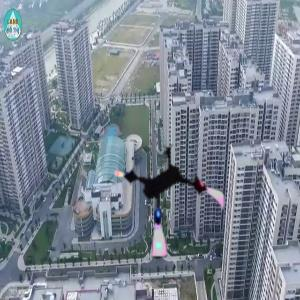drone: (105, 139, 230, 264)
